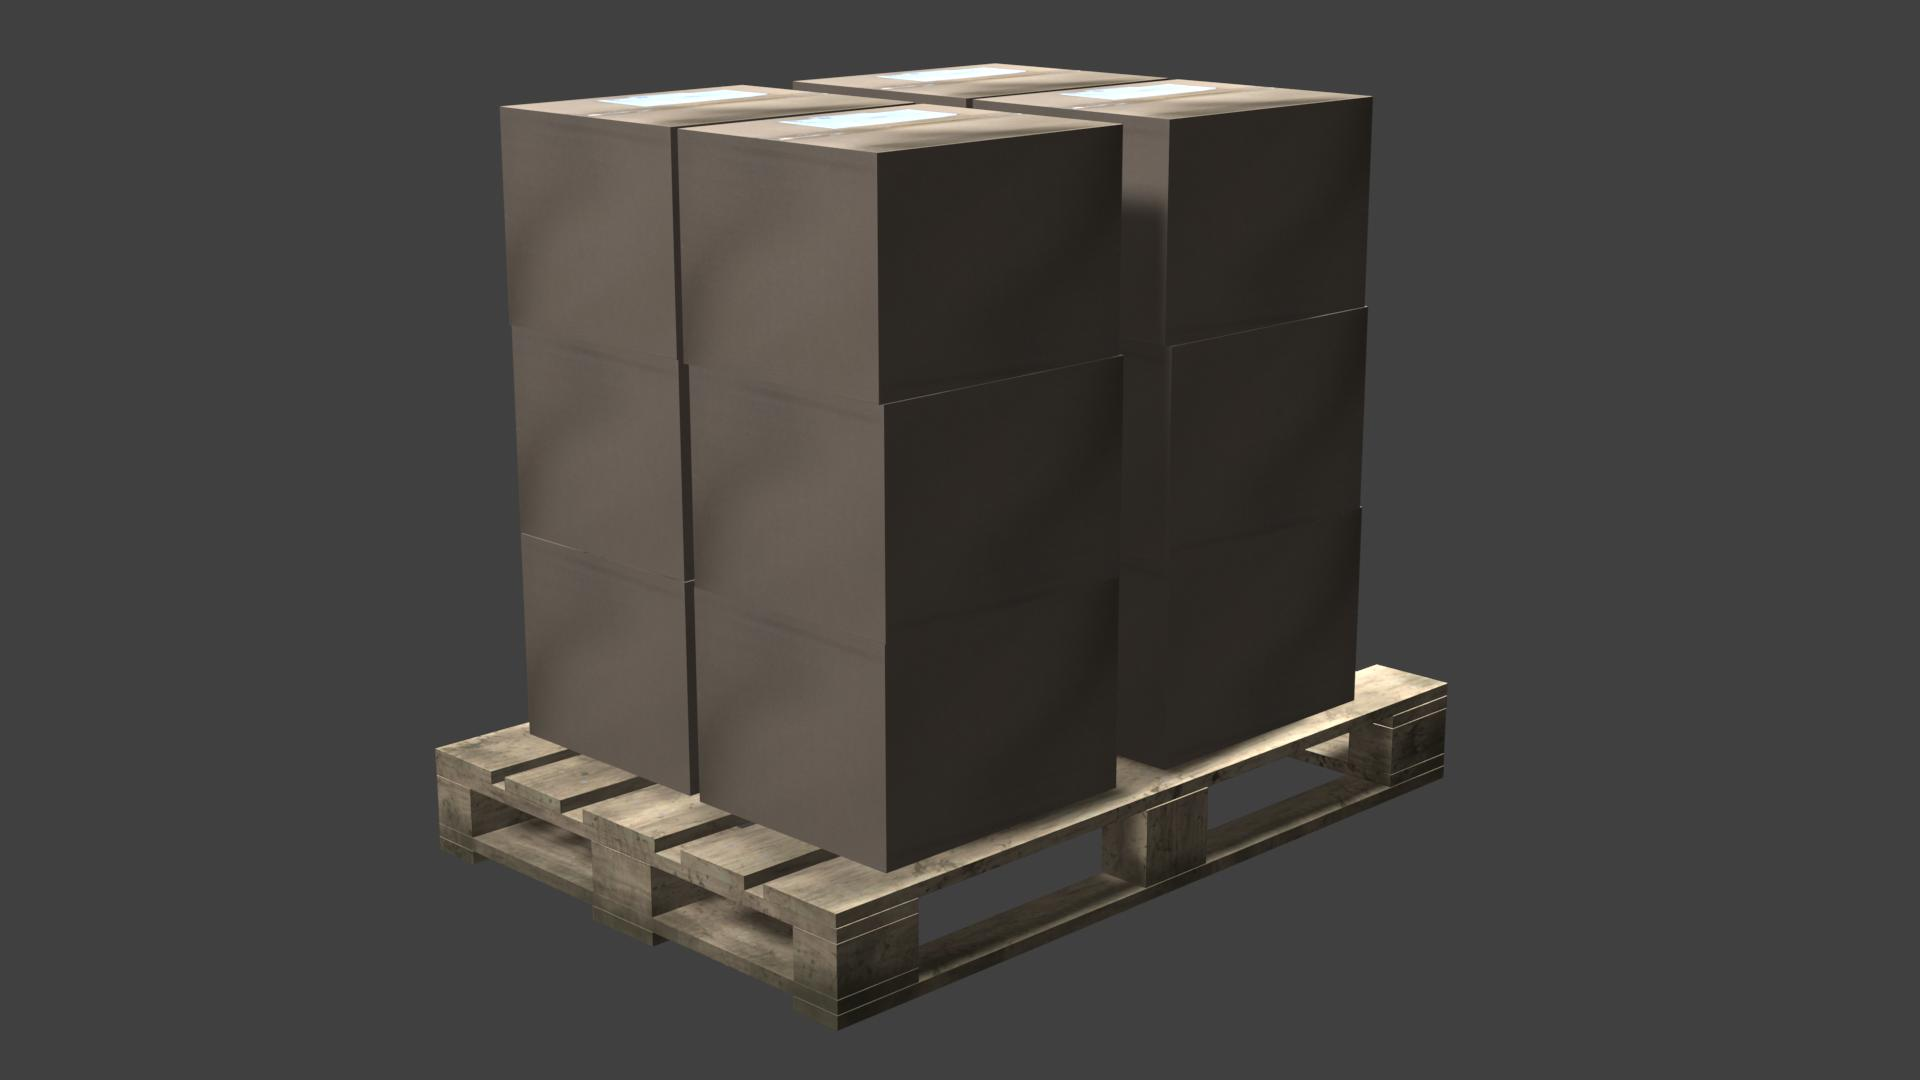group_box_left: (695, 578, 1121, 874), (688, 353, 1124, 642), (679, 124, 1122, 405), (1118, 508, 1362, 771), (1124, 307, 1366, 563), (1122, 99, 1371, 347), (521, 535, 699, 796), (512, 326, 692, 583), (500, 108, 679, 361)
group_box_top: (678, 103, 1120, 156), (500, 83, 913, 128), (980, 78, 1374, 121), (796, 63, 1166, 99)
palet: (433, 662, 1448, 1031)
